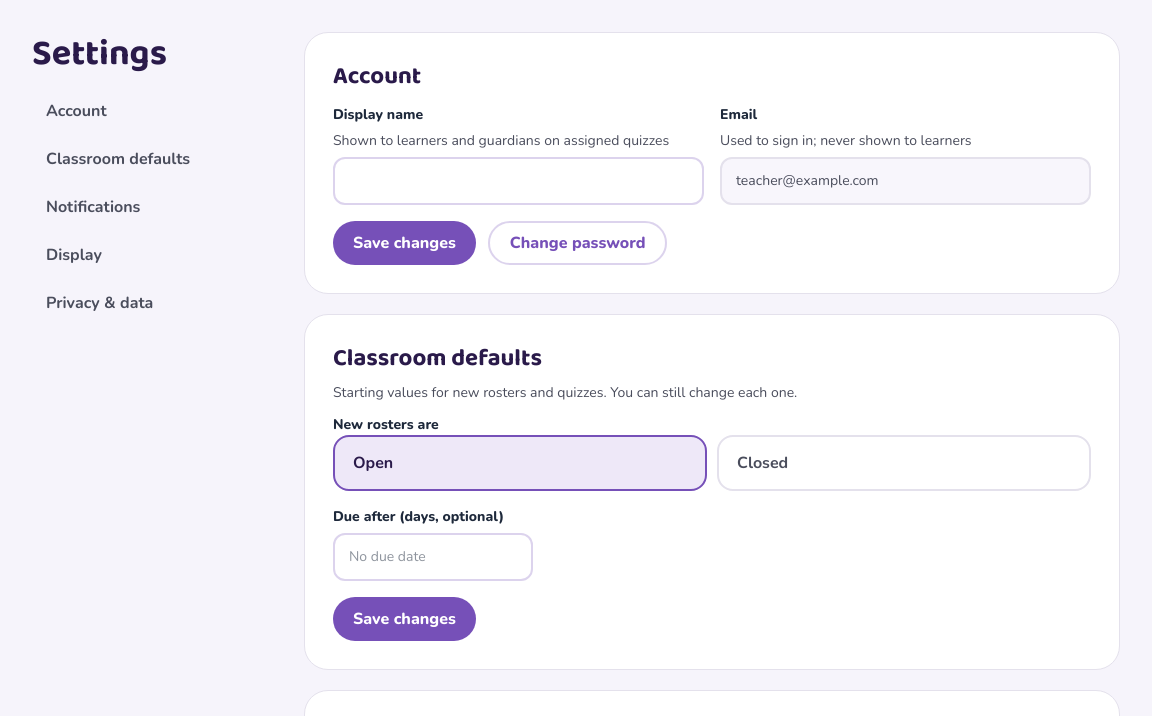
Test case: InstructorSettingsFlow › saves classroom defaults (enrollment mode + due date offset)
The image size is (1152, 716).
Expected: the field showing "teacher@example.com" is shown, [720,157,1091,205]
Click the radio button labelled "Closed". click: (763, 463)
box: [717,435,1091,491]
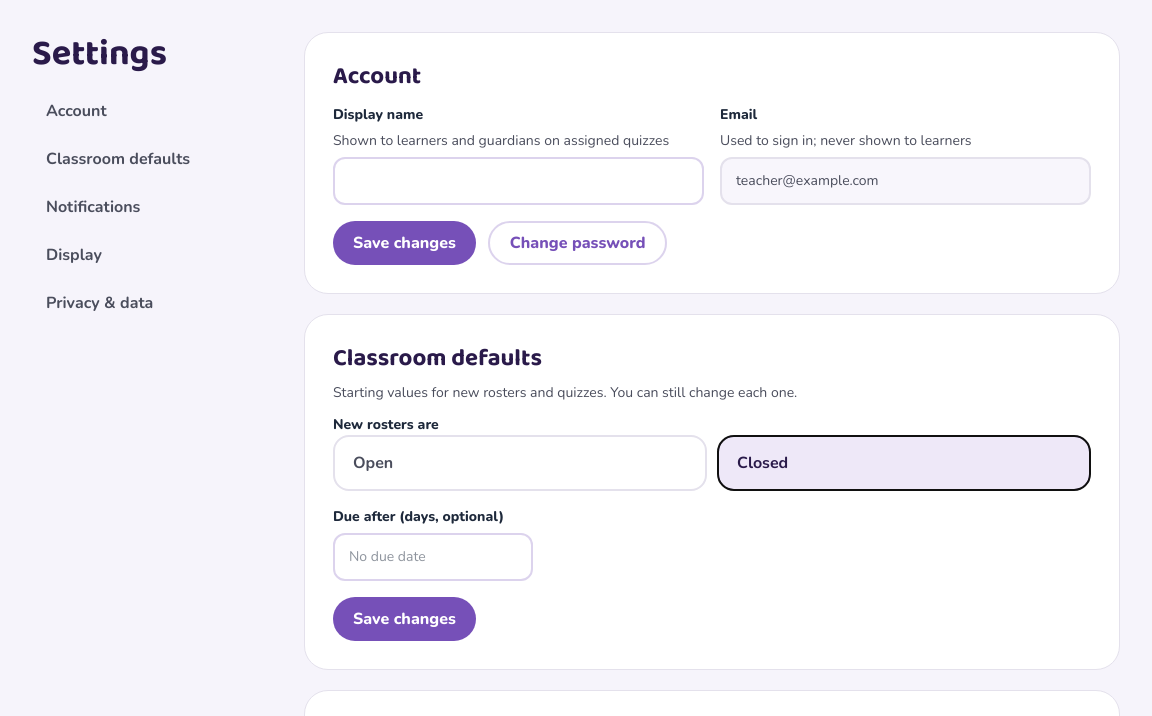
Type "7" into the number field labelled "Due after (days, optional)". click: (433, 557)
box: [333,533,533,581]
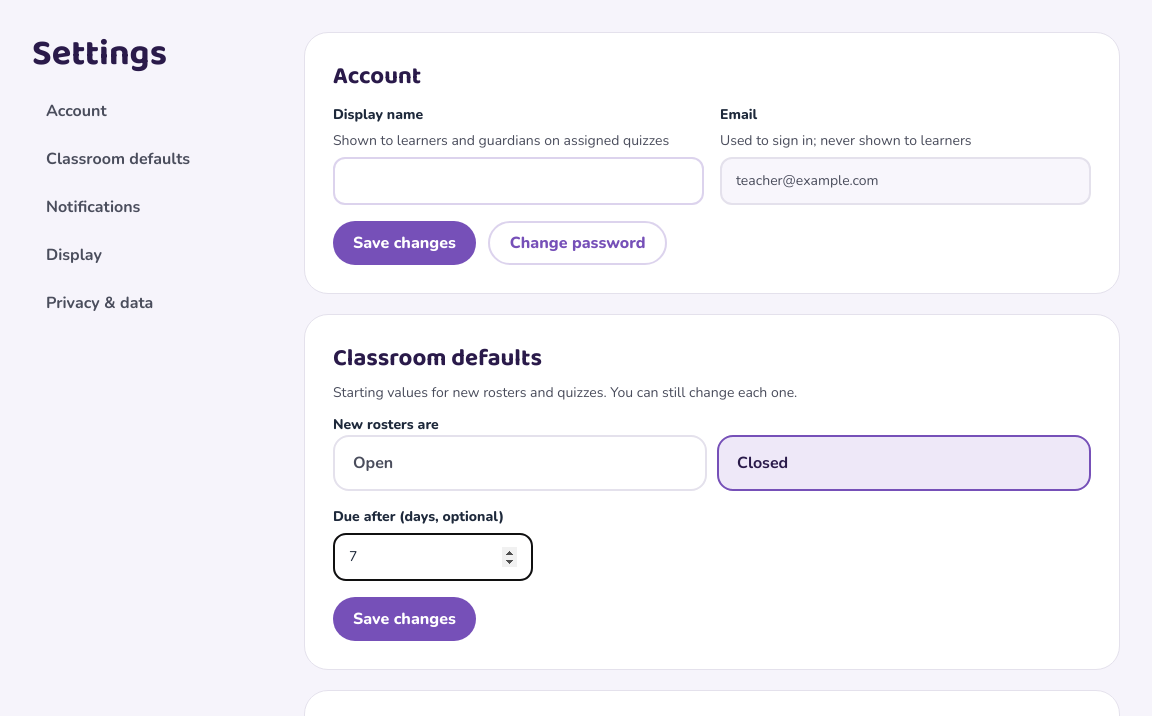
Click the button "Save changes" below "Due after (days, optional)". click: (404, 619)
box: [333,597,476,641]
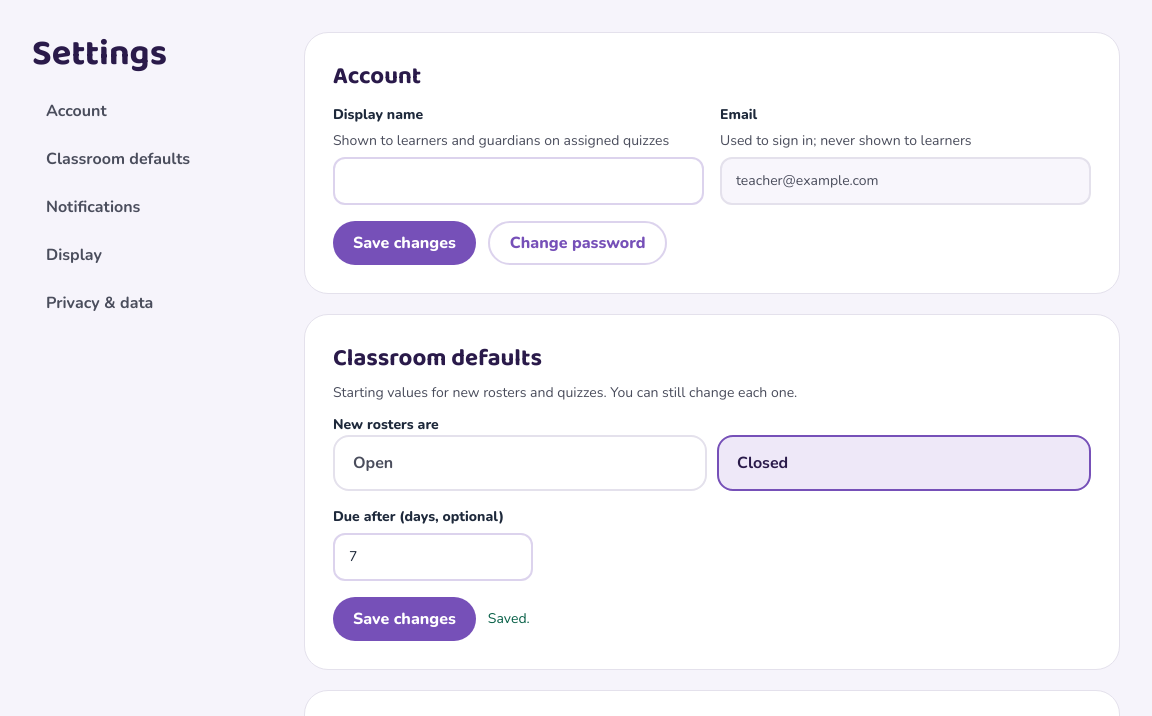
Now the text "Saved." is shown, box [488,609,530,629]
